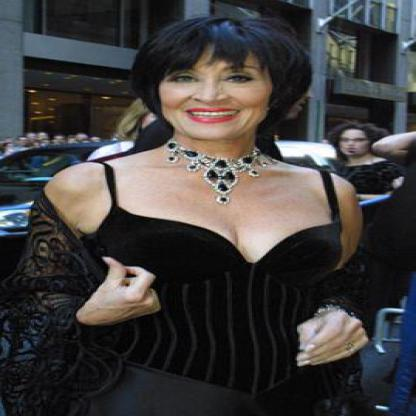face: (156, 22, 284, 144), (340, 126, 371, 158)
